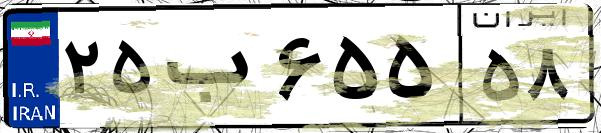2: (57, 26, 110, 100)
5: (385, 28, 445, 110), (330, 28, 385, 110), (475, 38, 525, 113), (110, 28, 158, 98)
6: (270, 28, 330, 110)
8: (525, 38, 570, 115)
ب: (158, 20, 270, 120)
